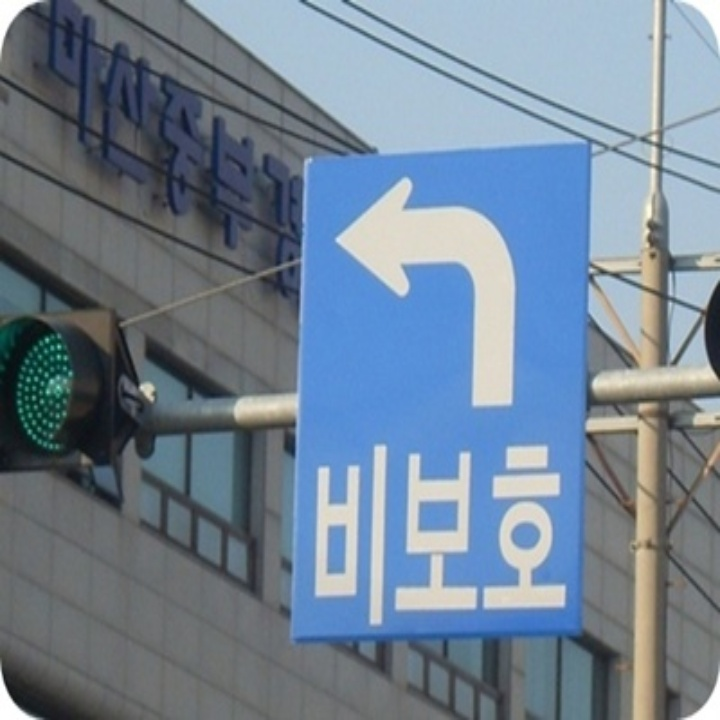left: (334, 163, 539, 416)
